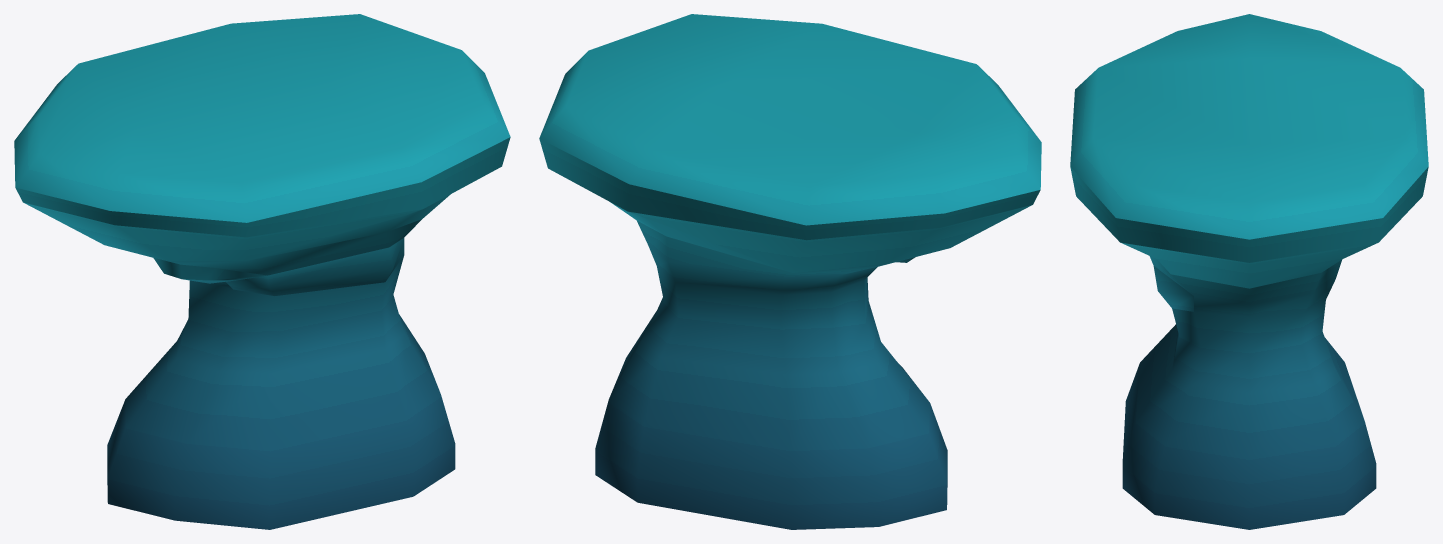
Rendered from RockG.fbx.
The picture shows the model from 3 angles, left to right: view 1: azimuth 30°, elevation 25°; view 2: azimuth 150°, elevation 25°; view 3: azimuth 270°, elevation 25°; orthographic projection. The views are drawn at different scales.
Parts seen in each view (by area): view 1: RockG; view 2: RockG; view 3: RockG.
Boxes of the visible parts, left/top/right/bottom form: RockG: left=14, top=14, right=510, bottom=529; RockG: left=539, top=14, right=1041, bottom=529; RockG: left=1070, top=14, right=1428, bottom=529.
Size of the model in its own units: 349 by 261 by 251.
Materials: 1 (1 with a texture image).
